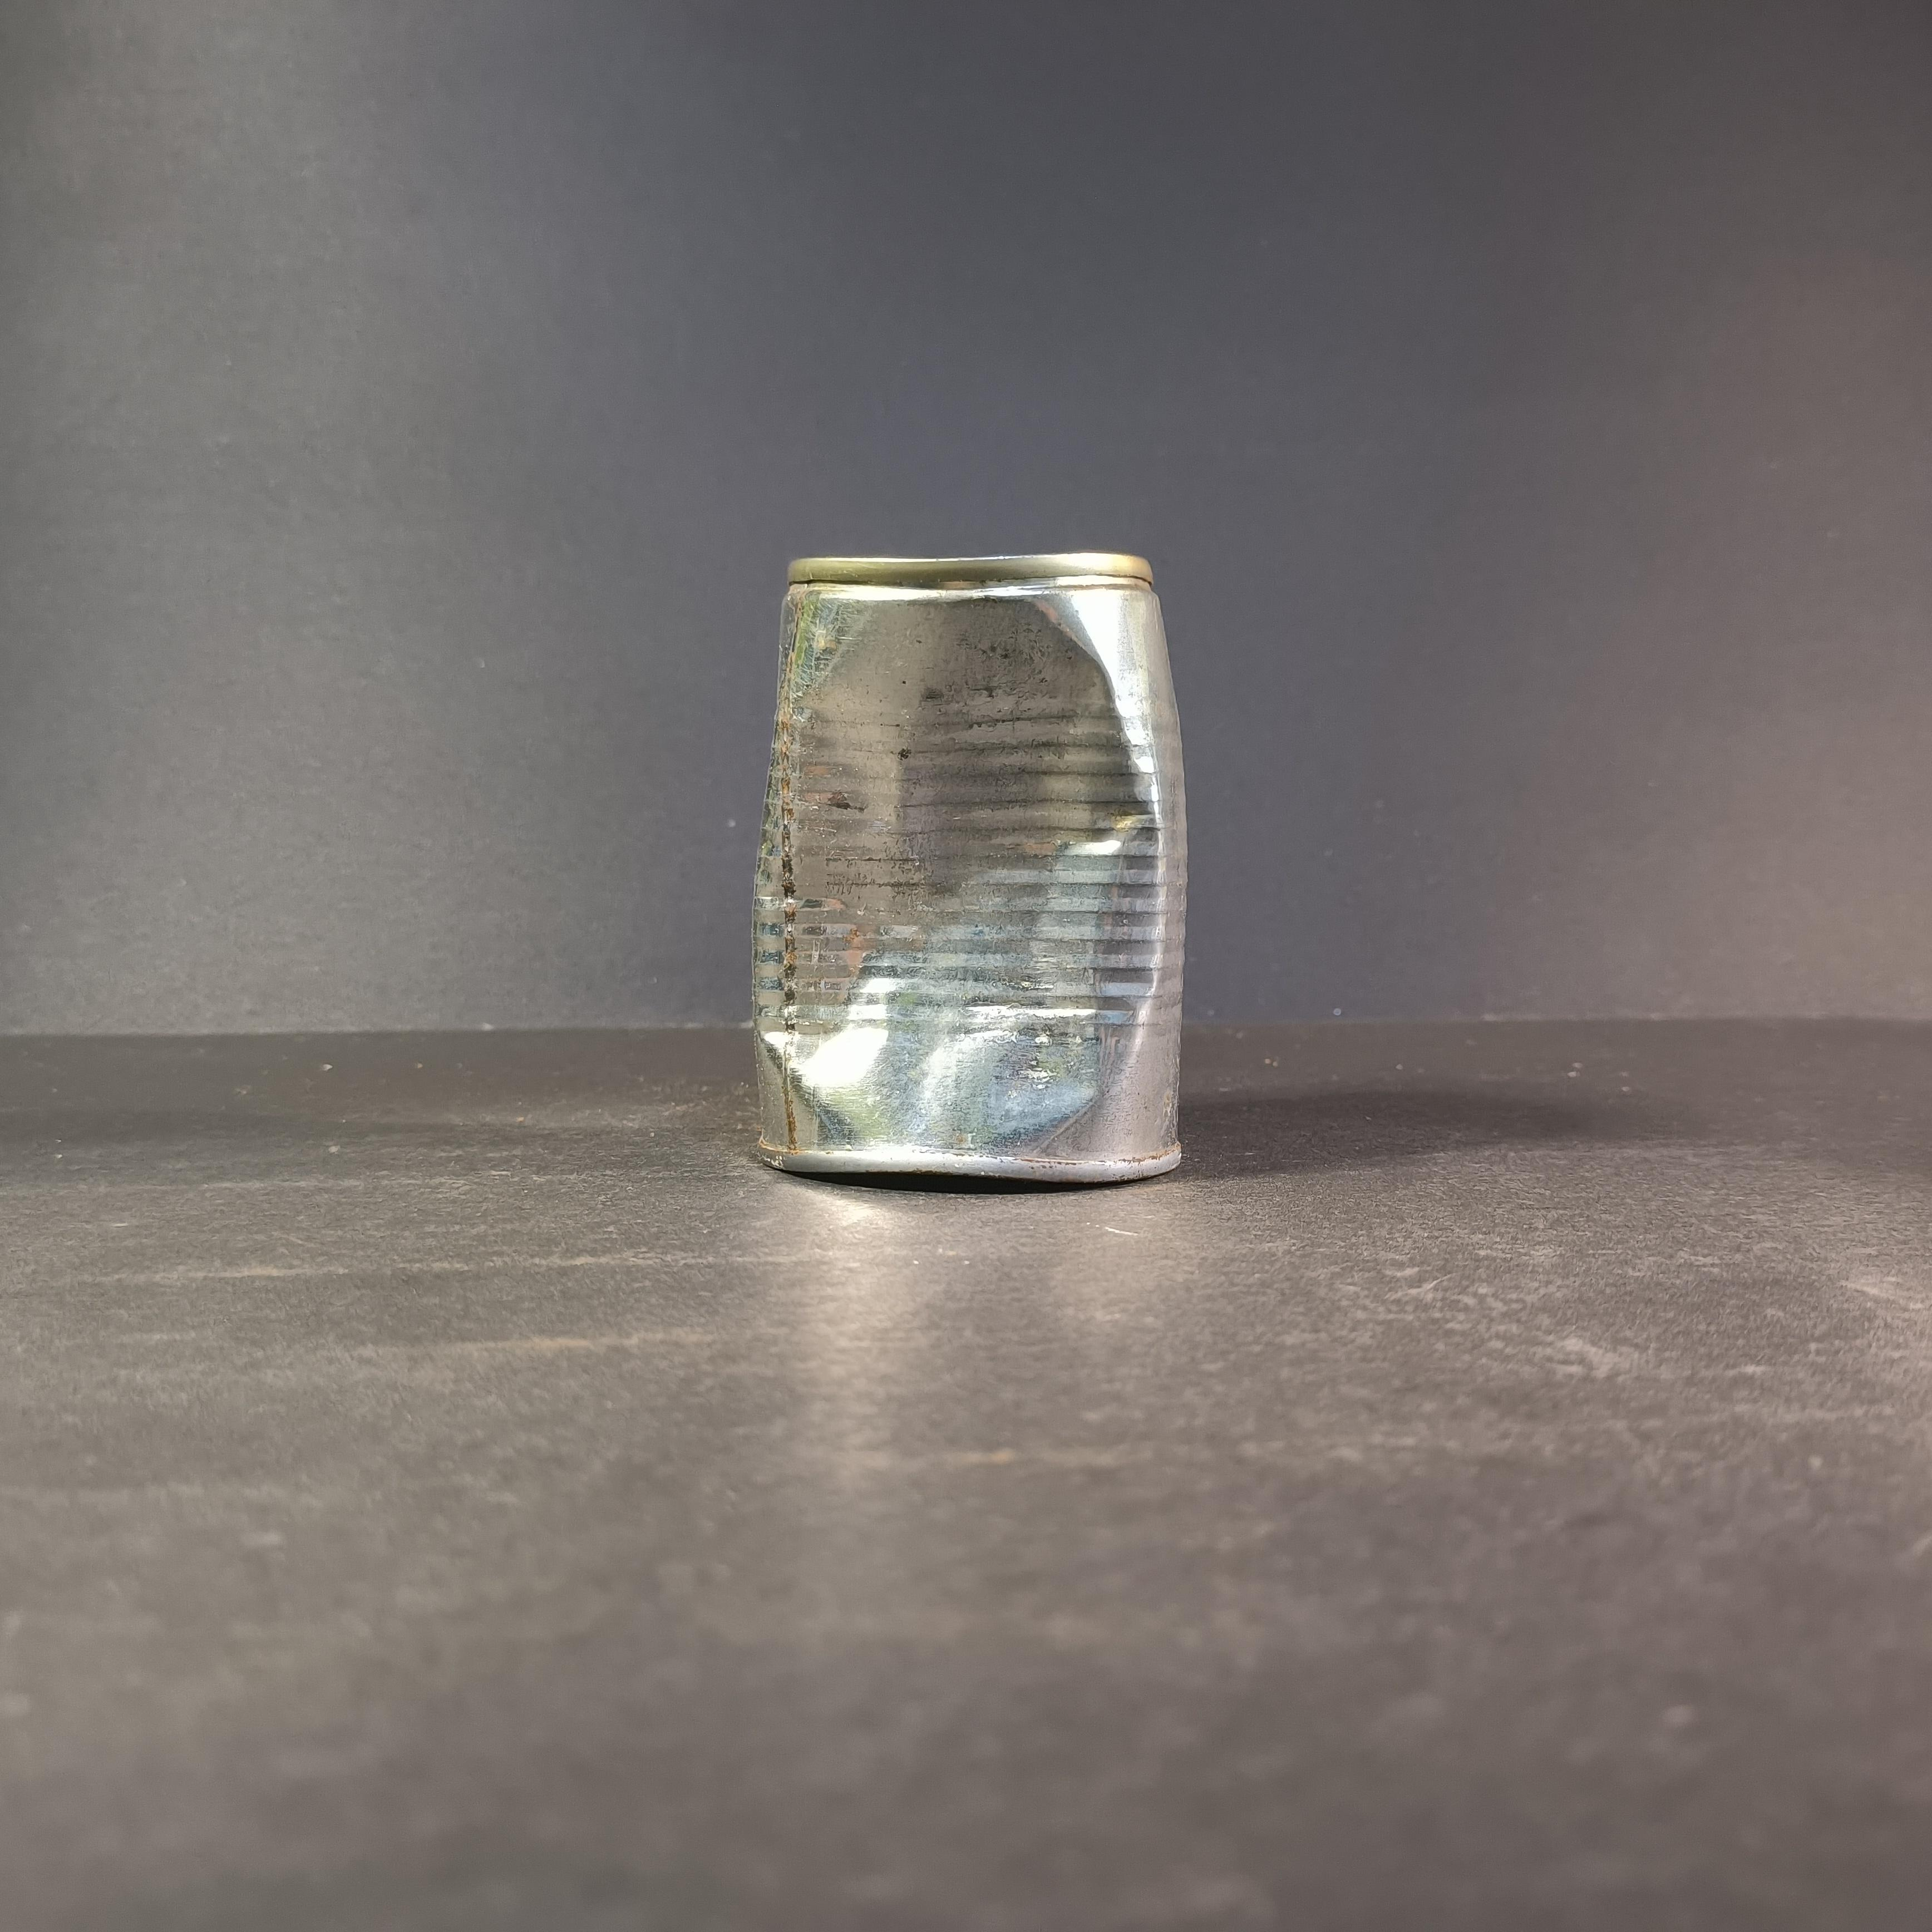Dented: (715, 518, 1207, 1207)
